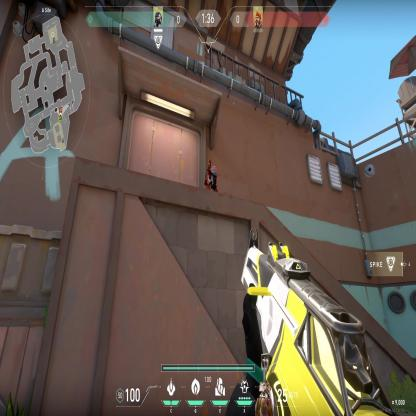enemy: (204, 157, 218, 194)
